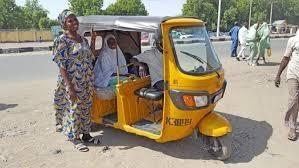keke: (66, 15, 234, 161)
